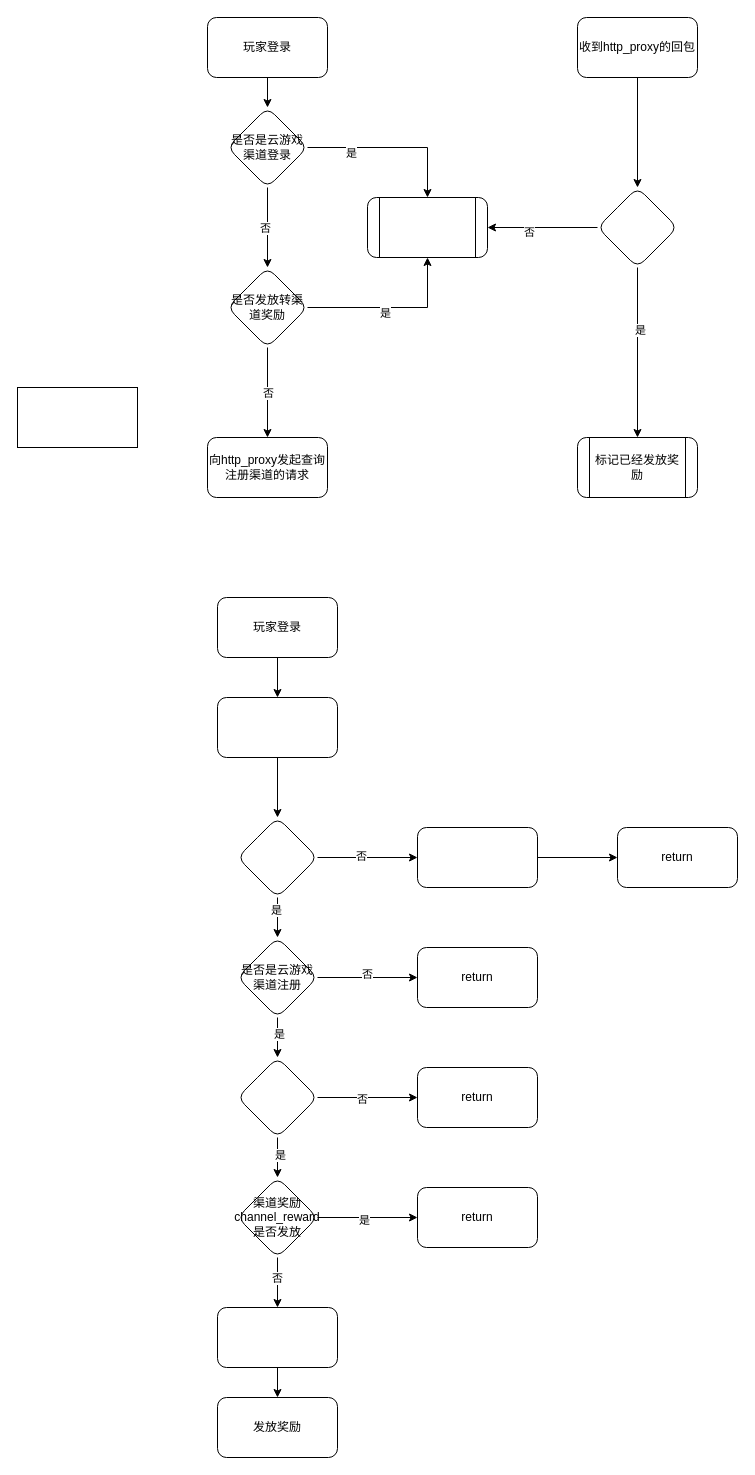
The diagram is 755 pixels wide and 1475 high, and some of its shapes have lost their labels. Each missing label, with the box of its shape:
break: (366, 196, 488, 258)
取出first_reg_channel: (216, 696, 338, 758)
填充 channel_reward: (216, 1306, 338, 1368)
当前login_channel是否是非云游戏渠道: (236, 1056, 318, 1138)
是否是合法值: (236, 816, 318, 898)
注册渠道是否是云游戏: (596, 186, 678, 268)
说明是当前账户首次注册登录，填充first_reg_channel: (416, 826, 538, 888)
